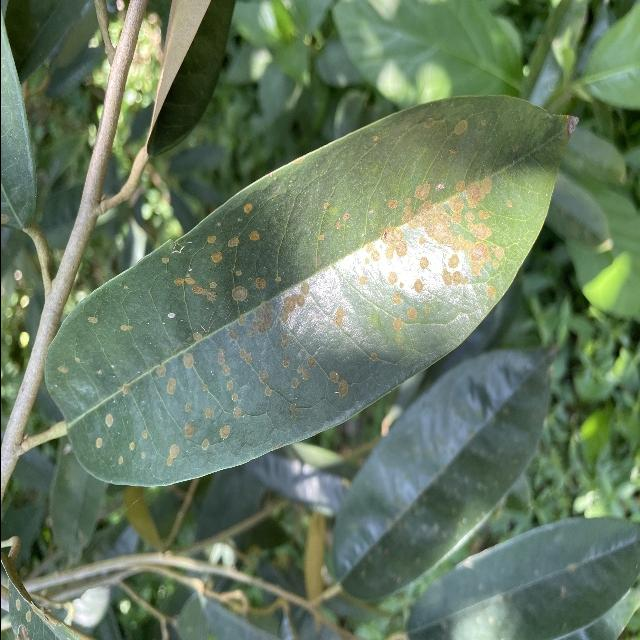Algal Leaf Spot: (29, 85, 584, 495)
